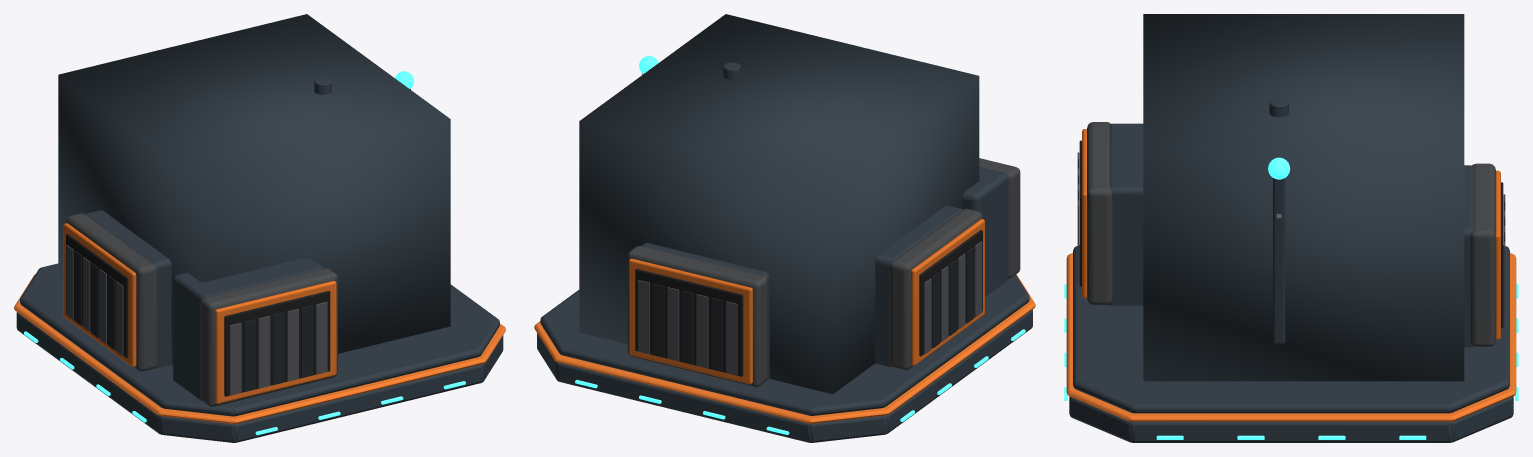
The model's file is spinner.glb.
3 renders of one model, left to right at view 1: azimuth 30°, elevation 25°; view 2: azimuth 150°, elevation 25°; view 3: azimuth 270°, elevation 25°, orthographic. The views are drawn at different scales.
Parts seen in each view (by area): view 1: COL_body, deck, plinth, port block 1, plinth lip, port 1 frame, port 0 frame, port 1 enamel, port 1 throat, port block 0, port 0 enamel, port 0 throat (+14 smaller); view 2: COL_body, deck, plinth, plinth lip, port 2 frame, port 0 frame, port block 1, port 2 enamel, port 2 throat, port block 0, port 0 enamel, port 0 throat (+16 smaller); view 3: COL_body, deck, plinth, port block 1, plinth lip, port 1 frame, port 2 frame, guide arm, port block 2, port 1 enamel, port 2 enamel.
Part boxes in pixels (left/top/right/bottom): COL_body: left=58, top=14, right=450, bottom=365; deck: left=20, top=263, right=499, bottom=416; plinth: left=16, top=312, right=503, bottom=442; port block 1: left=173, top=257, right=323, bottom=400; plinth lip: left=14, top=274, right=505, bottom=424; port 1 frame: left=200, top=268, right=337, bottom=406; port 0 frame: left=66, top=213, right=157, bottom=371; port 1 enamel: left=215, top=280, right=336, bottom=403; port 1 throat: left=224, top=291, right=330, bottom=396; port block 0: left=85, top=210, right=171, bottom=368; port 0 enamel: left=63, top=223, right=136, bottom=367; port 0 throat: left=66, top=234, right=128, bottom=357; COL_body: left=579, top=14, right=979, bottom=394; deck: left=540, top=274, right=1029, bottom=415; plinth: left=537, top=309, right=1032, bottom=442; plinth lip: left=534, top=274, right=1035, bottom=423; port 2 frame: left=627, top=246, right=767, bottom=387; port 0 frame: left=889, top=209, right=982, bottom=370; port block 1: left=962, top=166, right=1008, bottom=296; port 2 enamel: left=629, top=258, right=752, bottom=384; port 2 throat: left=635, top=268, right=743, bottom=376; port block 0: left=875, top=205, right=962, bottom=367; port 0 enamel: left=911, top=219, right=984, bottom=365; port 0 throat: left=919, top=230, right=982, bottom=356; COL_body: left=1143, top=14, right=1464, bottom=381; deck: left=1073, top=245, right=1509, bottom=413; plinth: left=1069, top=396, right=1513, bottom=442; port block 1: left=1108, top=123, right=1143, bottom=305; plinth lip: left=1066, top=253, right=1516, bottom=421; port 1 frame: left=1087, top=122, right=1112, bottom=305; port 2 frame: left=1470, top=163, right=1495, bottom=346; guide arm: left=1273, top=178, right=1285, bottom=343; port block 2: left=1464, top=165, right=1474, bottom=347; port 1 enamel: left=1082, top=129, right=1086, bottom=298; port 2 enamel: left=1496, top=170, right=1500, bottom=339.
Size of the model in its own units: 3.68 by 2.5 by 3.68.
